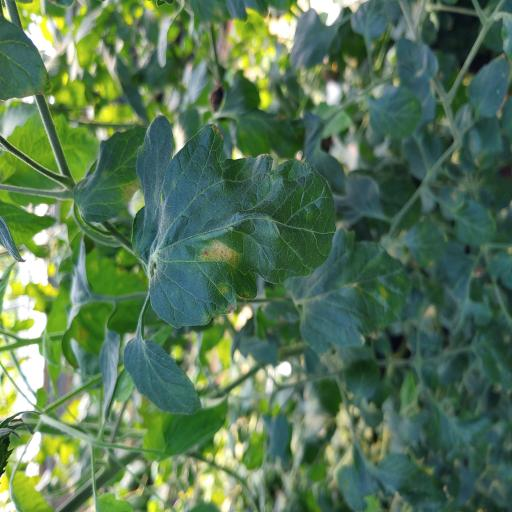disease_tomato: (132, 113, 336, 331)
